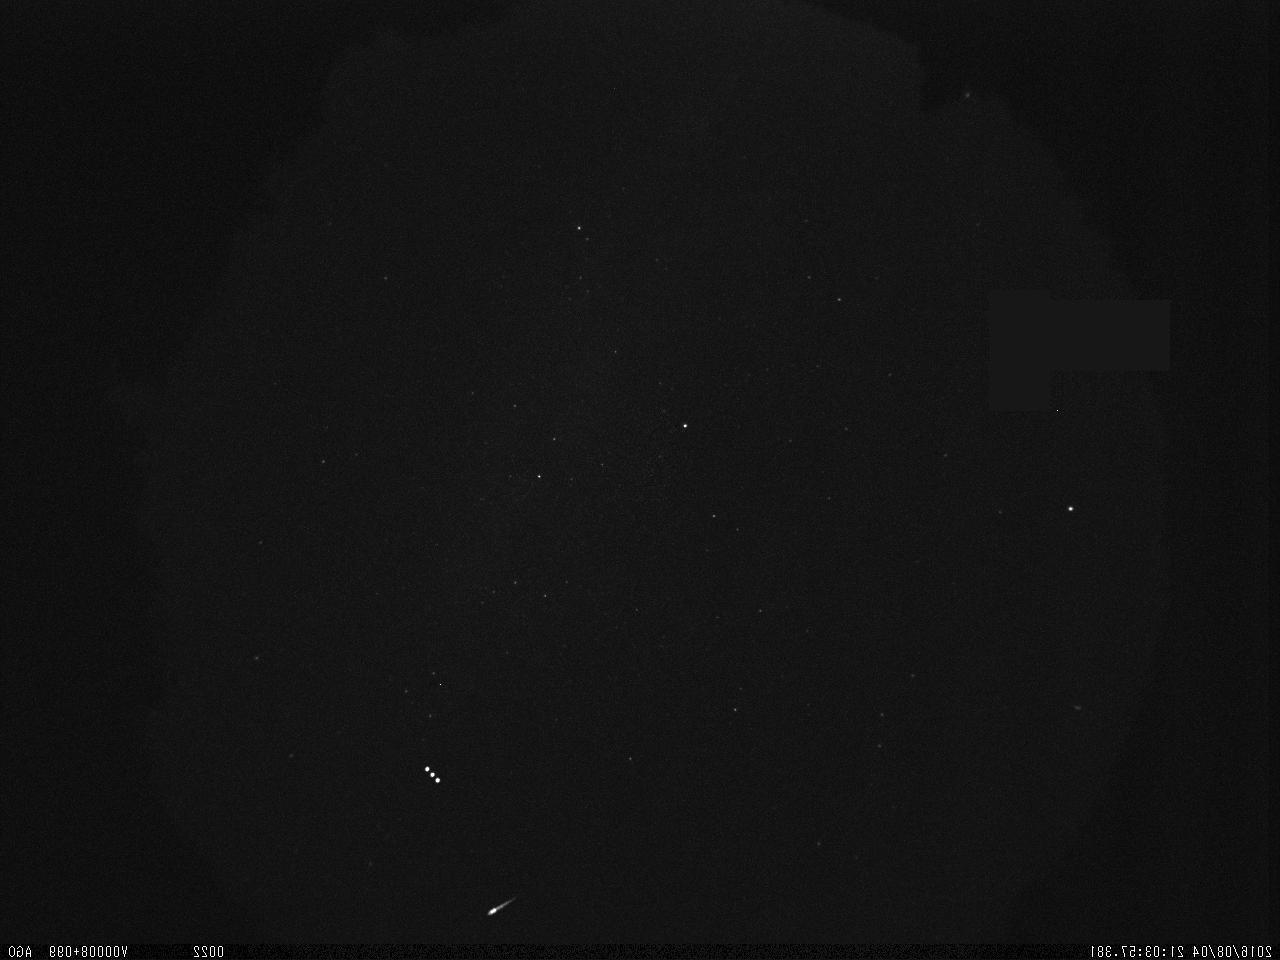meteor: (478, 887, 523, 921)
satelite: (419, 756, 445, 793)
